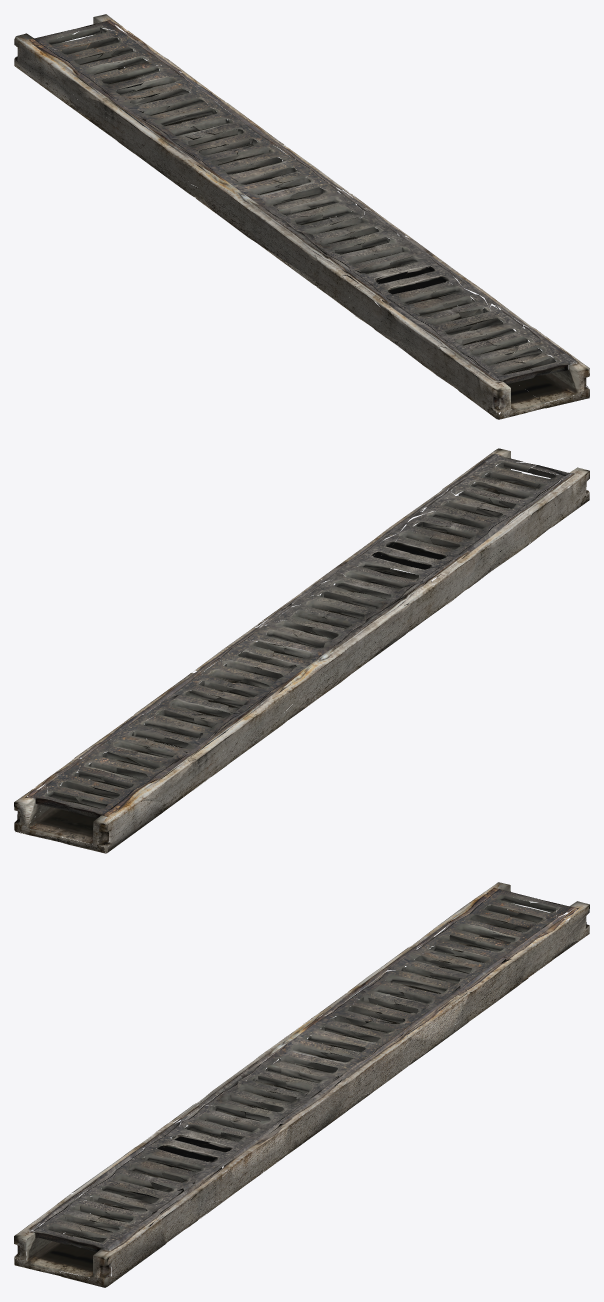
Rendered from kairox-plaza-drain.glb.
The picture shows the model from 3 angles, top to bottom: view 1: azimuth 30°, elevation 25°; view 2: azimuth 150°, elevation 25°; view 3: azimuth 330°, elevation 25°; orthographic projection.
Parts seen in each view (by area): view 1: kairox-plaza-drain; view 2: kairox-plaza-drain; view 3: kairox-plaza-drain.
Part boxes in pixels (left/top/right/bottom): kairox-plaza-drain: left=14, top=14, right=589, bottom=419; kairox-plaza-drain: left=14, top=448, right=589, bottom=853; kairox-plaza-drain: left=14, top=882, right=589, bottom=1287.
Size of the model in its own units: 0.45 by 0.15 by 4.
1 material, 1 textured.
